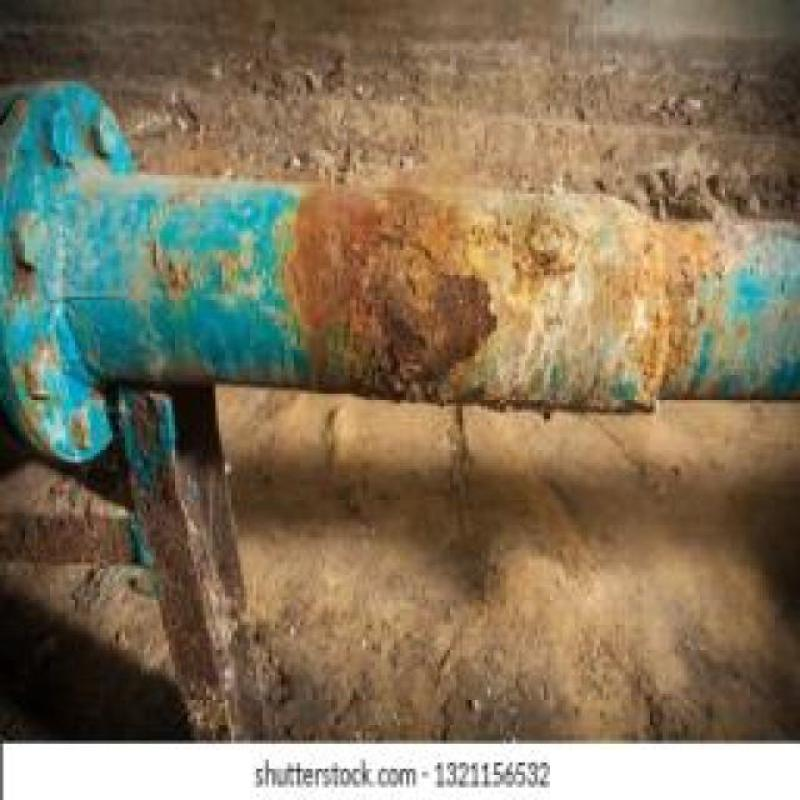corrosion: (303, 187, 716, 411)
